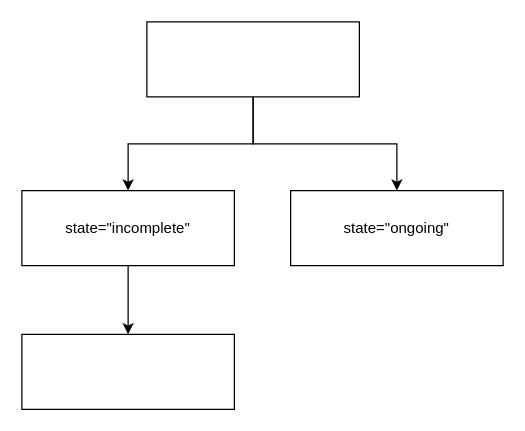
Image size: 525x431. Some labels were removed from this diagram. Each missing label, with the centre of its shape:
state="complete": point 127,371
state="draft": point 252,59
